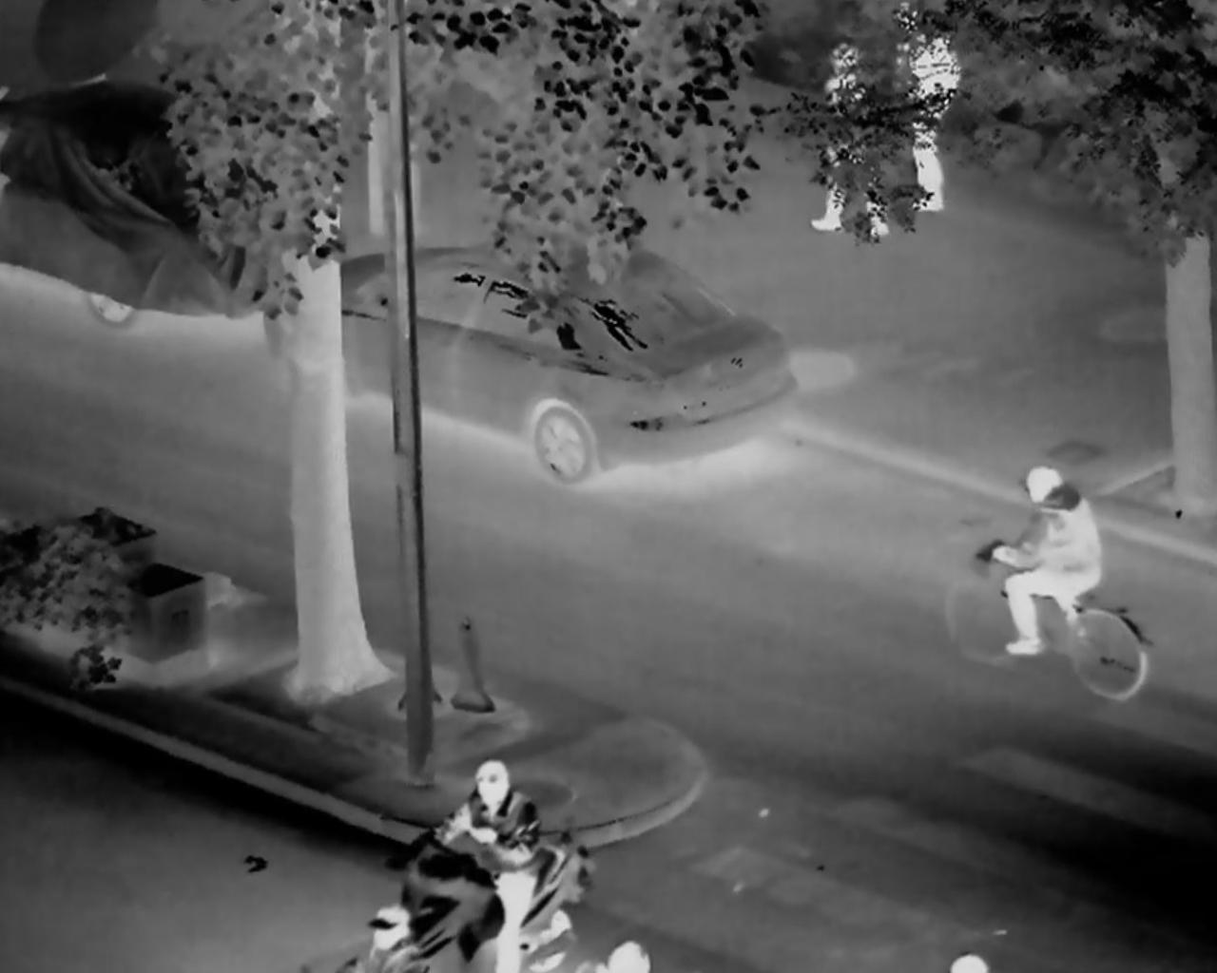person: (414, 736, 570, 973), (975, 450, 1098, 672), (791, 18, 883, 234)
